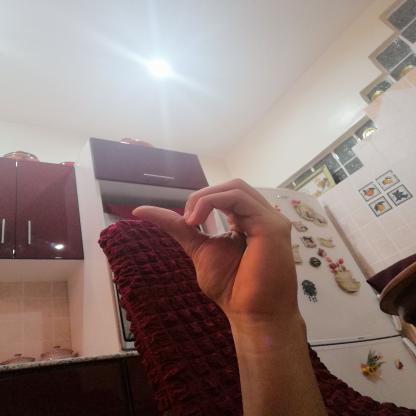WAW: (116, 169, 314, 331)
